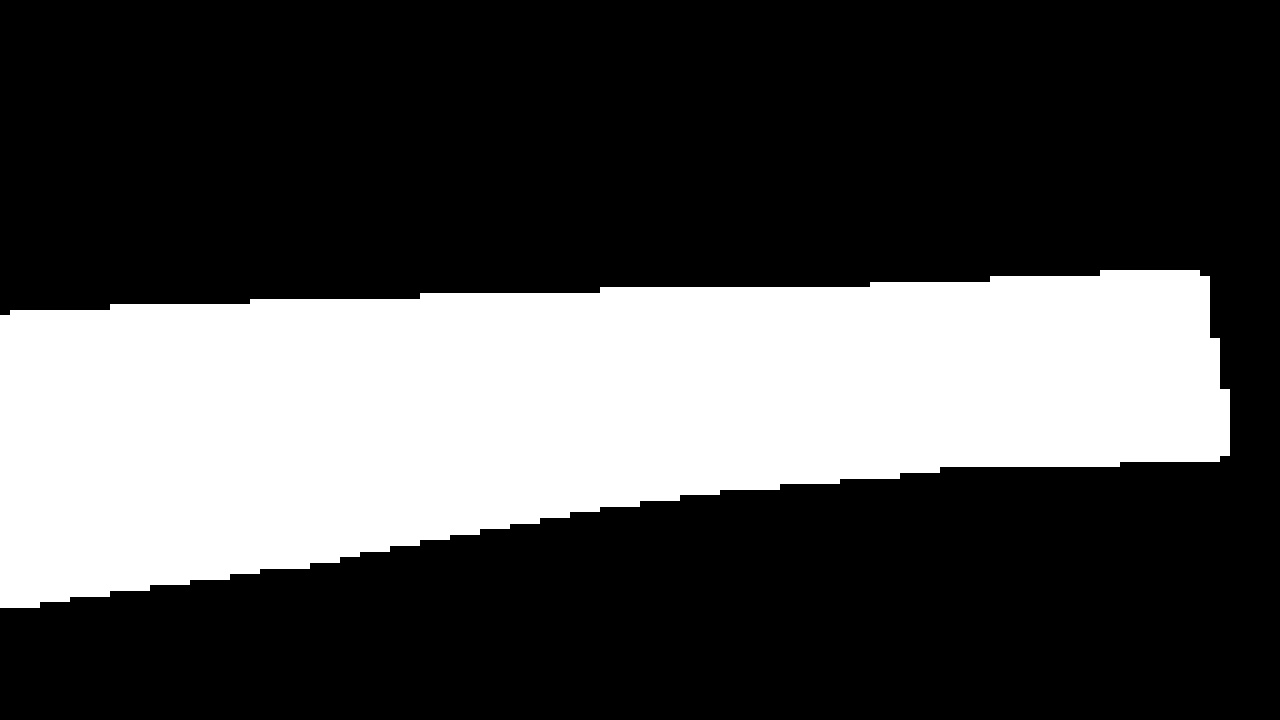Turbine: (2, 245, 1230, 590)
